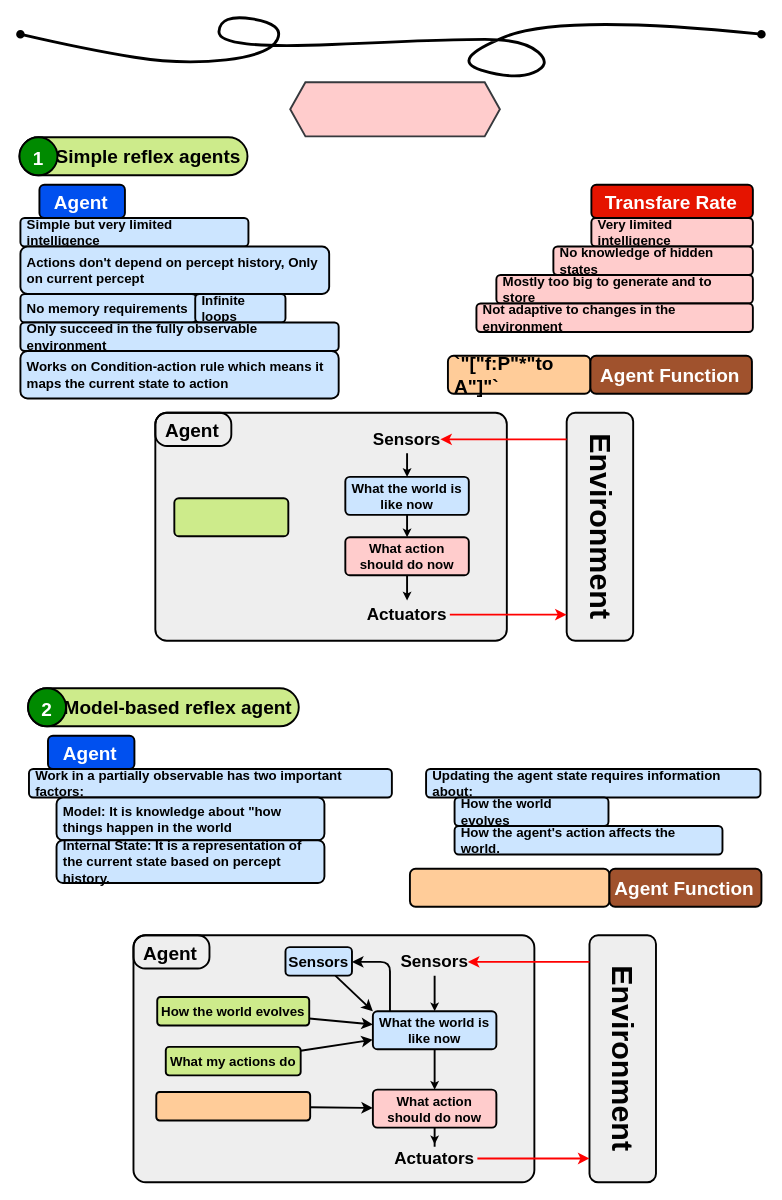
This 782x1200 diagram has some shape labels left out. The shapes that lost their labels are listed below. From the top down, each one's centre as x and y in pixels, then its label:
(394,109): Agents
(231,517): Condition action rules
(509,887): `"["f:P"*",A"*"to S to A"]"`
(233,1106): Condition-Action Rules
